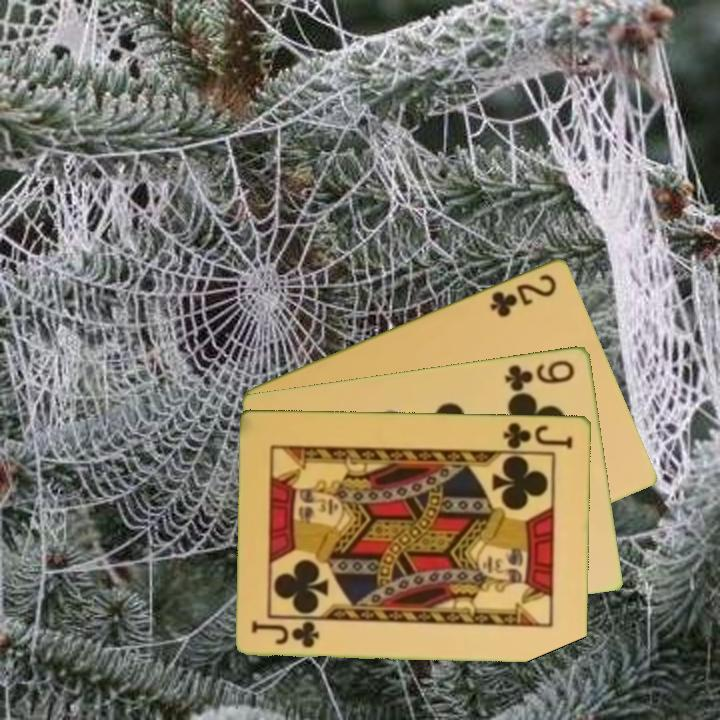2c: (486, 269, 560, 320)
9c: (501, 356, 578, 393)
Jc: (500, 418, 576, 451), (249, 618, 323, 650)
